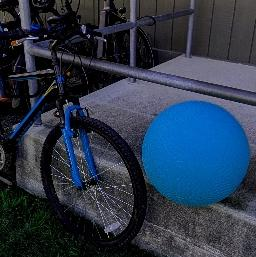algae: (146, 102, 255, 203)
